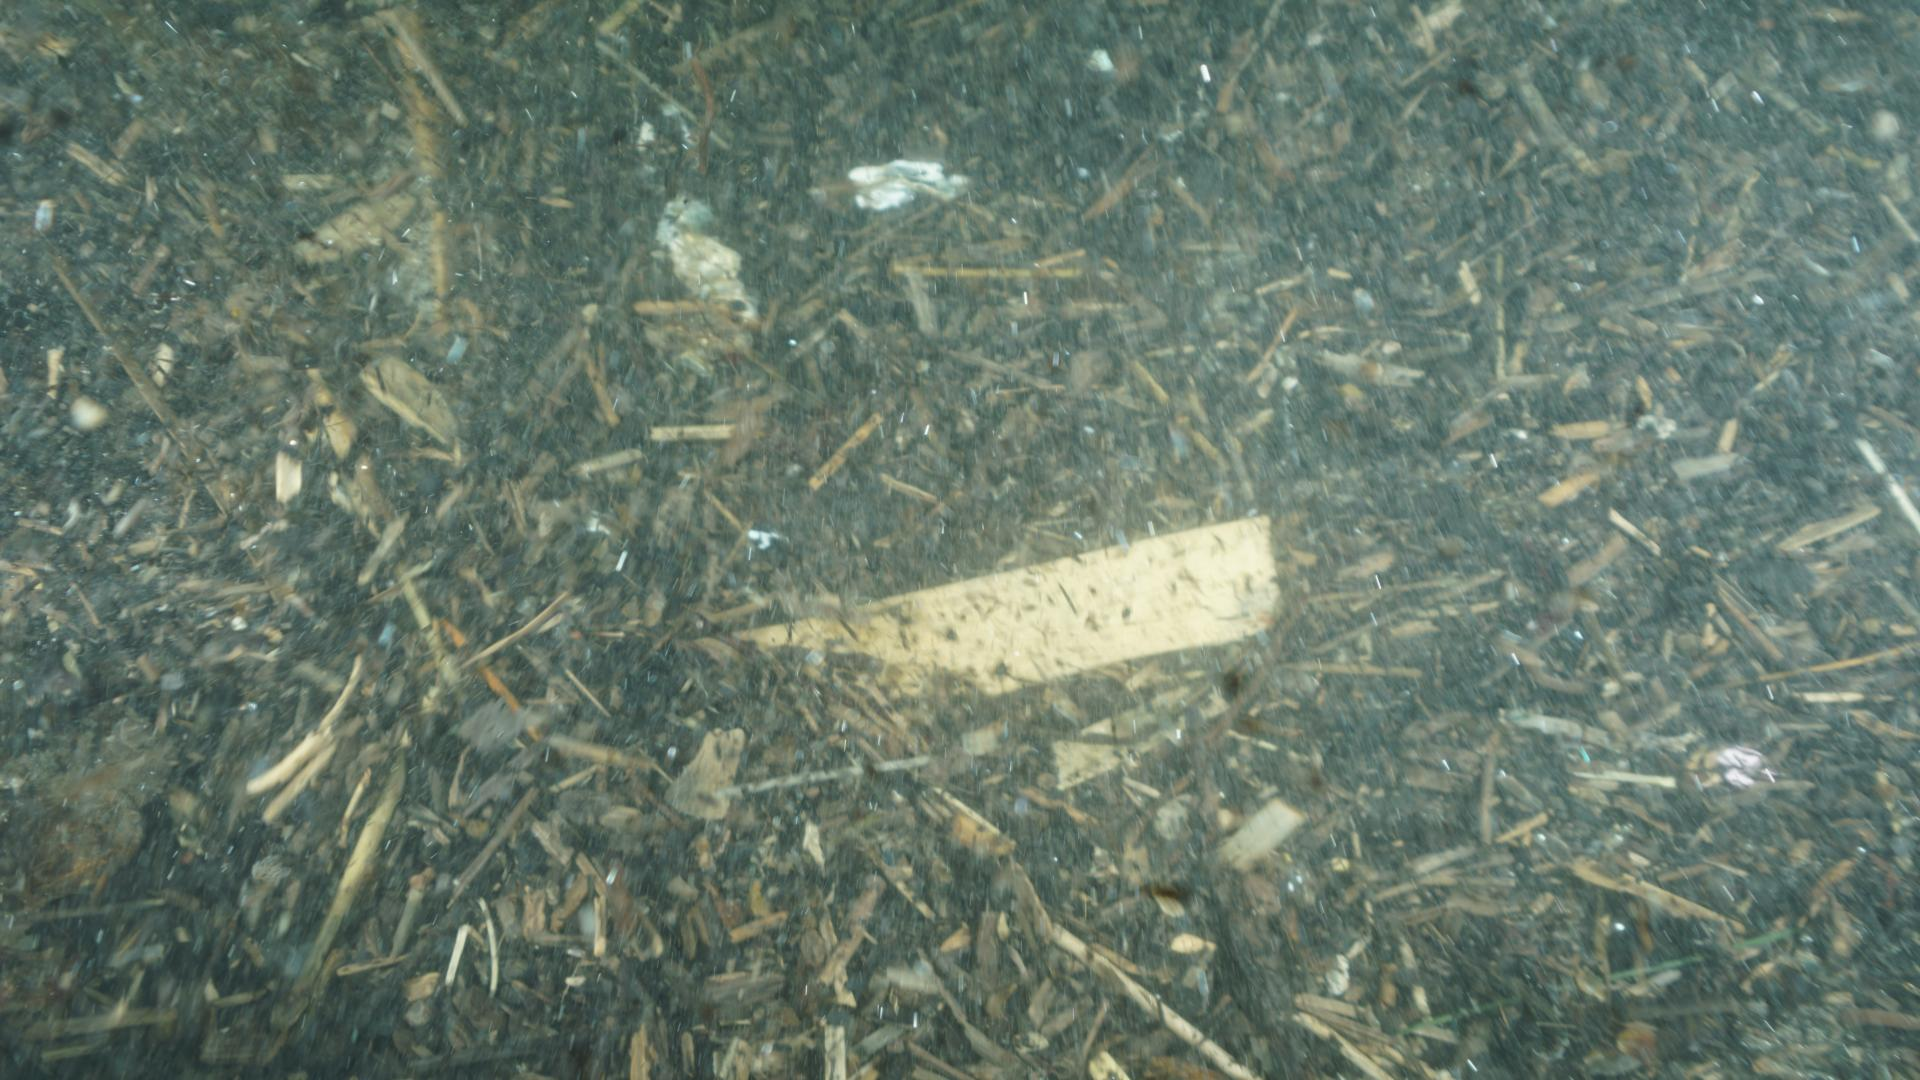wood: (727, 510, 1284, 698)
